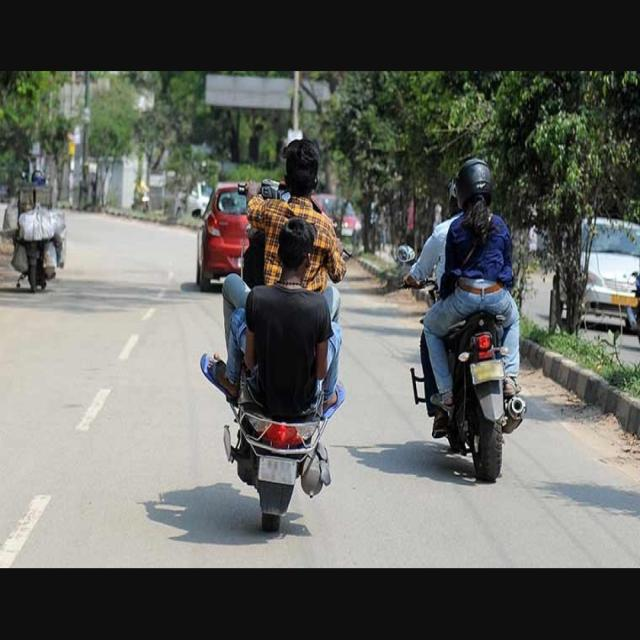car: (196, 183, 248, 290)
motorcycle: (200, 138, 346, 532), (404, 158, 526, 482)
